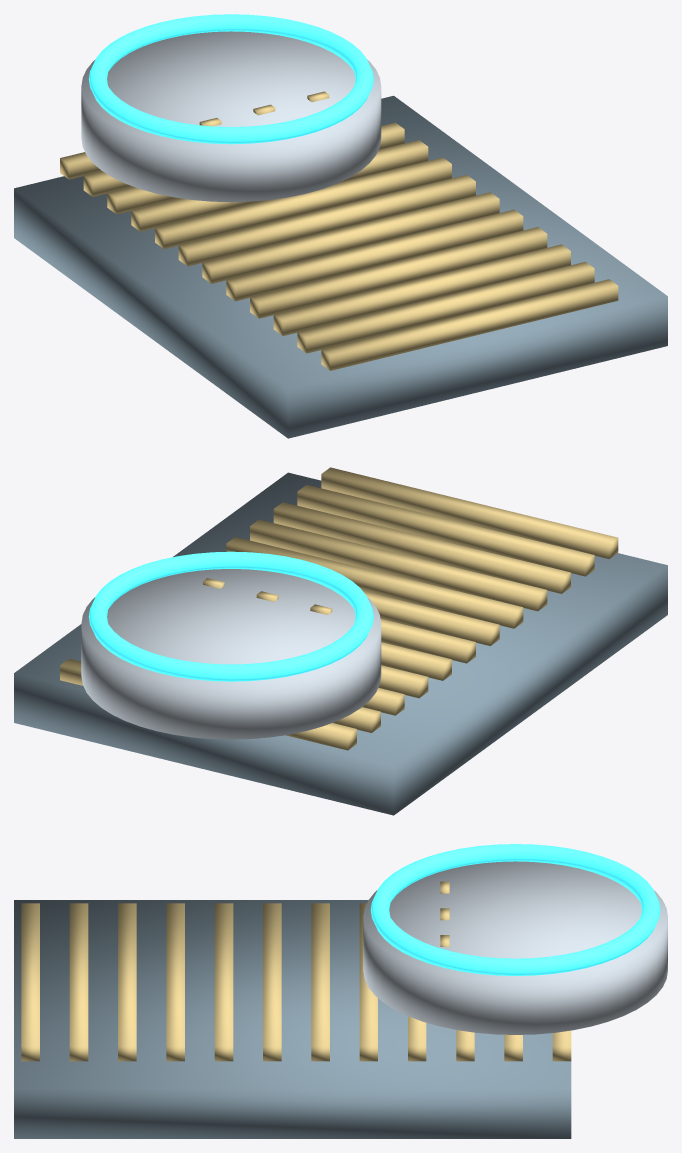
Rendered from 24_L93_CTStageServoDrive.fbx.
The picture shows the model from 3 angles, top to bottom: view 1: azimuth 30°, elevation 25°; view 2: azimuth 150°, elevation 25°; view 3: azimuth 270°, elevation 25°; orthographic projection.
Parts seen in each view (by area): view 1: L92_CTStageServoDrive_Part_0001, L92_CTStageServoDrive_Part_0000, L92_CTStageServoDrive_Part_0002, L92_CTStageServoDrive_Part_0003; view 2: L92_CTStageServoDrive_Part_0000, L92_CTStageServoDrive_Part_0001, L92_CTStageServoDrive_Part_0002, L92_CTStageServoDrive_Part_0003; view 3: L92_CTStageServoDrive_Part_0000, L92_CTStageServoDrive_Part_0002, L92_CTStageServoDrive_Part_0001, L92_CTStageServoDrive_Part_0003.
Part boxes in pixels (x1=…): L92_CTStageServoDrive_Part_0001: x1=60, y1=122, x2=618, y2=370; L92_CTStageServoDrive_Part_0000: x1=14, y1=95, x2=667, y2=438; L92_CTStageServoDrive_Part_0002: x1=81, y1=31, x2=381, y2=202; L92_CTStageServoDrive_Part_0003: x1=88, y1=14, x2=373, y2=144; L92_CTStageServoDrive_Part_0000: x1=14, y1=472, x2=667, y2=815; L92_CTStageServoDrive_Part_0001: x1=60, y1=467, x2=618, y2=750; L92_CTStageServoDrive_Part_0002: x1=81, y1=569, x2=381, y2=739; L92_CTStageServoDrive_Part_0003: x1=88, y1=551, x2=373, y2=681; L92_CTStageServoDrive_Part_0000: x1=14, y1=900, x2=571, y2=1138; L92_CTStageServoDrive_Part_0002: x1=363, y1=861, x2=667, y2=1034; L92_CTStageServoDrive_Part_0001: x1=21, y1=903, x2=571, y2=1061; L92_CTStageServoDrive_Part_0003: x1=370, y1=844, x2=660, y2=975.
Size of the model in its own units: 2.4 by 1.19 by 3.52.
